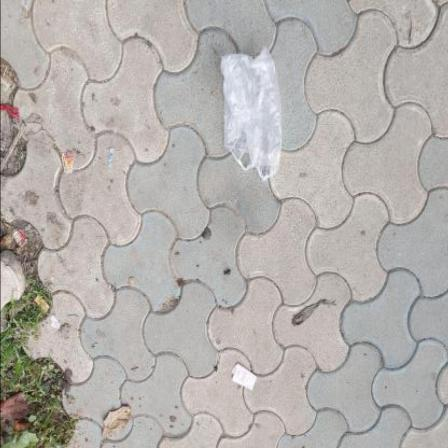Carton: (62, 152, 75, 175), (50, 316, 62, 330)
Paper: (233, 364, 258, 391)
Plastic bag - wrapper: (221, 46, 283, 184), (35, 297, 51, 315), (14, 231, 28, 249)
Unlabeled litter: (108, 149, 116, 171)
